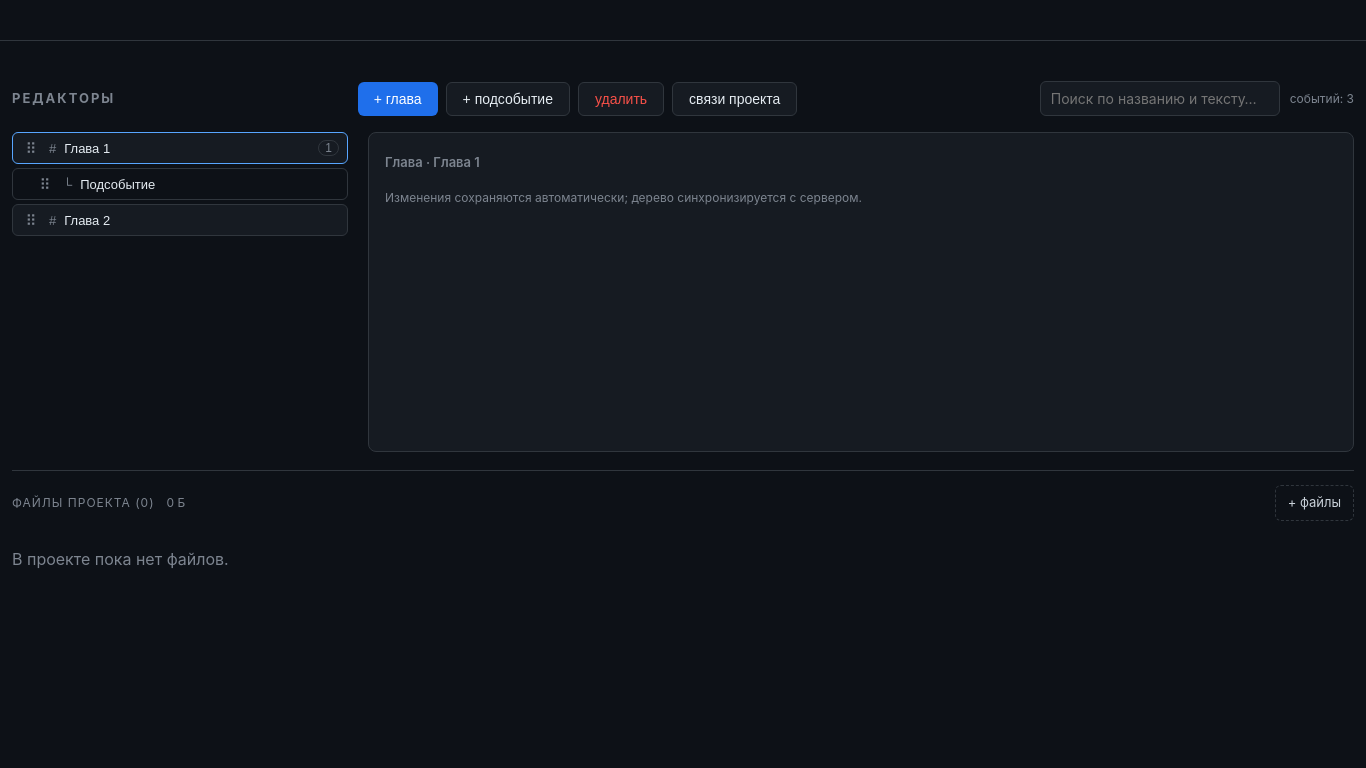
EditorsPanel — поиск по тексту проекта › находит кадр по тексту, а не только по названию
The image size is (1366, 768).
In the field named "Поиск по проекту": (1160, 98) [1040,81,1280,116], type "маяк"
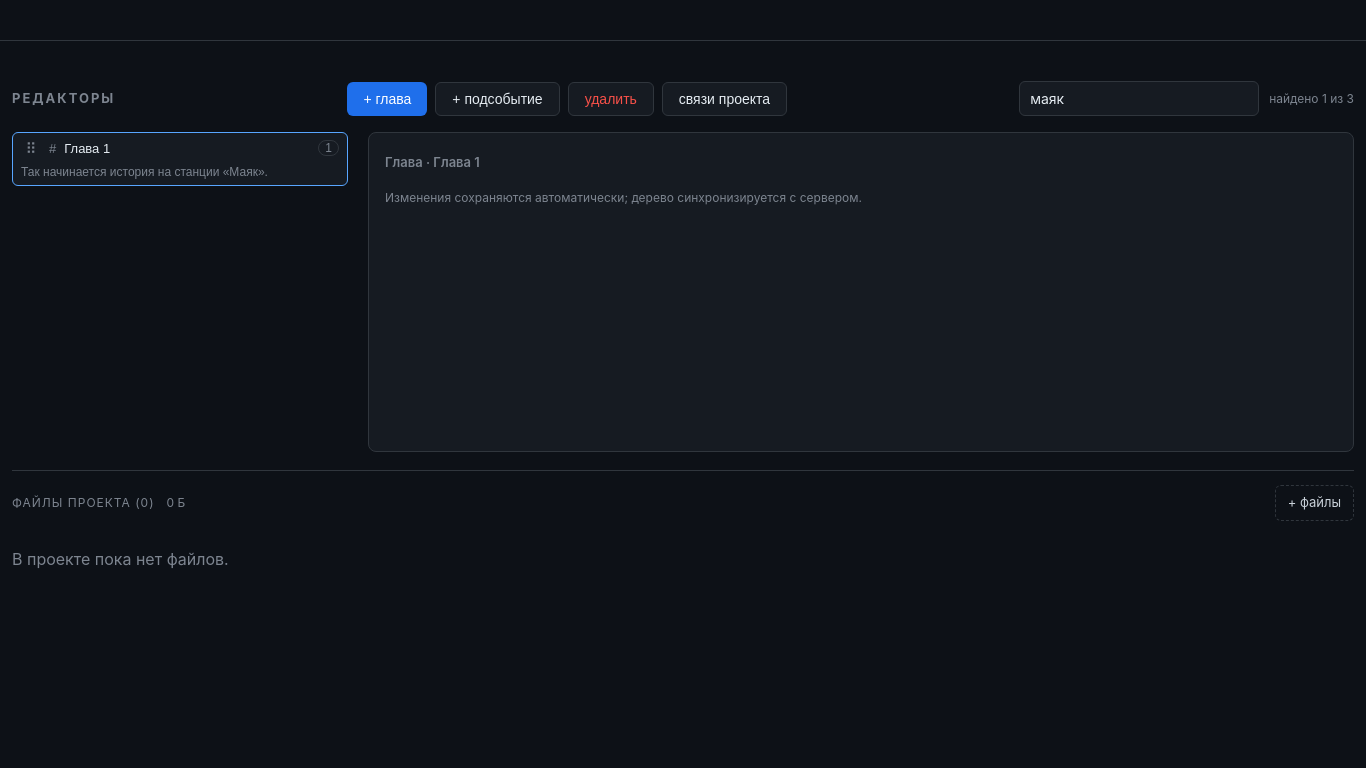
Expected: the text "Так начинается история на станции «Маяк»." is shown, [21,165,268,179]
Expected: the text "найдено 1 из 3" is shown, [1269,90,1354,108]
